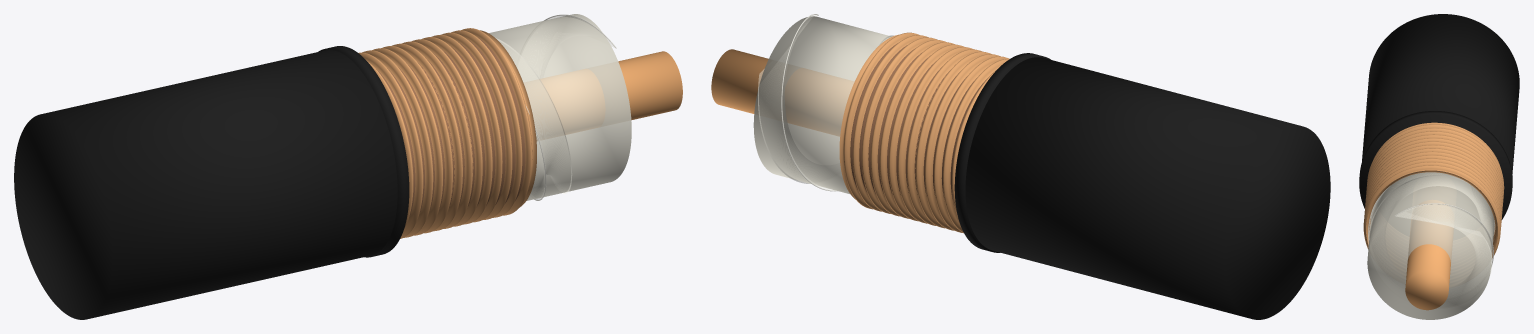
Rendered from rf-lcf12.glb.
3 views of the same model, side by side, from view 1: azimuth 30°, elevation 25°; view 2: azimuth 150°, elevation 25°; view 3: azimuth 270°, elevation 25° (orthographic). The views are drawn at different scales.
Visible parts, largest first — view 1: black PE jacket body, corrugated copper shield, foam PE dielectric, solid center conductor continuous, dark groove shadow pass, jacket cut lip, surface PTFE tape wrap; view 2: black PE jacket body, corrugated copper shield, foam PE dielectric, solid center conductor continuous, dark groove shadow pass, jacket cut lip, surface PTFE tape wrap; view 3: black PE jacket body, foam PE dielectric, corrugated copper shield, surface PTFE tape wrap, solid center conductor continuous, jacket cut lip, subtle PTFE tape lap line.
Boxes of the visible parts, x1,y1,x2,y2 form: black PE jacket body: (14,50,397,319); corrugated copper shield: (358,28,536,238); foam PE dielectric: (489,14,631,200); solid center conductor continuous: (525,51,682,140); dark groove shadow pass: (376,38,532,215); jacket cut lip: (318,46,409,257); surface PTFE tape wrap: (496,16,614,199); black PE jacket body: (965,57,1330,319); corrugated copper shield: (839,32,1009,233); foam PE dielectric: (753,16,891,193); solid center conductor continuous: (711,49,853,136); dark groove shadow pass: (850,43,987,205); jacket cut lip: (954,53,1050,252); surface PTFE tape wrap: (758,15,893,189); black PE jacket body: (1362,14,1519,173); foam PE dielectric: (1367,172,1494,319); corrugated copper shield: (1363,122,1504,258); surface PTFE tape wrap: (1368,174,1494,299); solid center conductor continuous: (1405,200,1453,310); jacket cut lip: (1359,111,1512,219); subtle PTFE tape lap line: (1368,196,1493,267).
Bounding box in the file's own units: 6.69 × 2.07 × 2.17.
